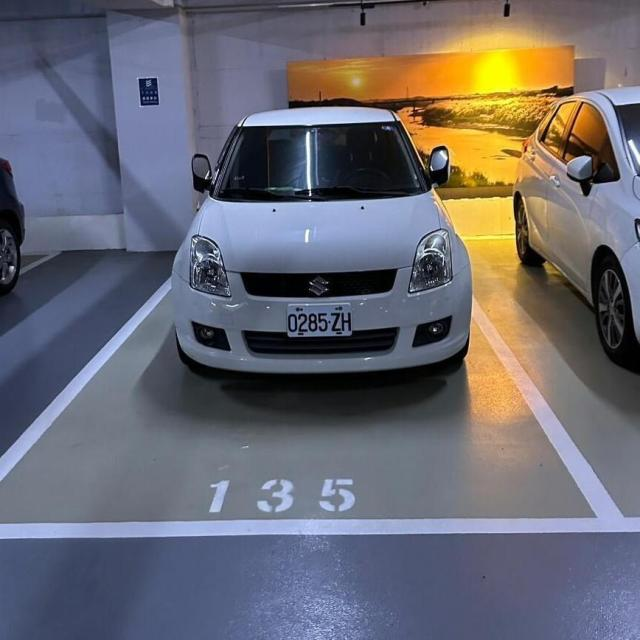W: (286, 303, 353, 338)
